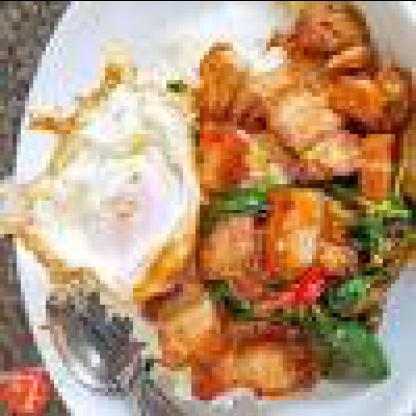Basil Rice: (12, 0, 412, 404)
